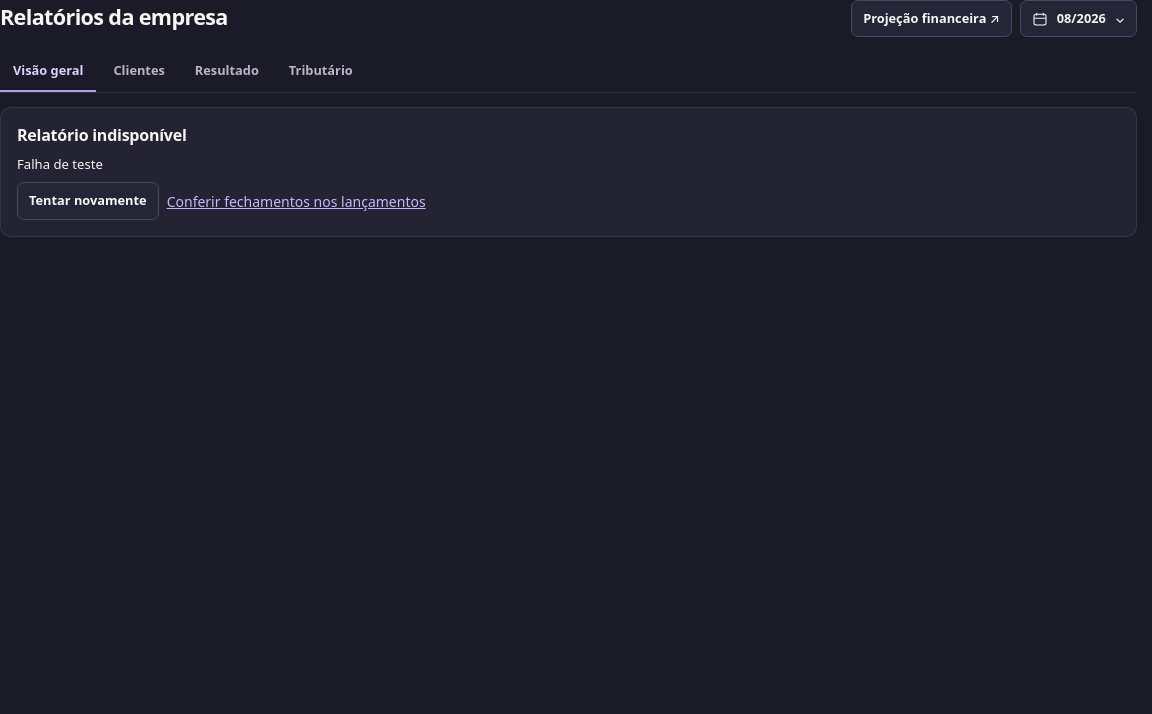
Scenario: falha não é tela vazia e permite repetir
Expected: the message is shown, [0, 107, 1137, 237]
Click the button "Tentar novamente".
click(88, 201)  # box [17, 182, 159, 220]
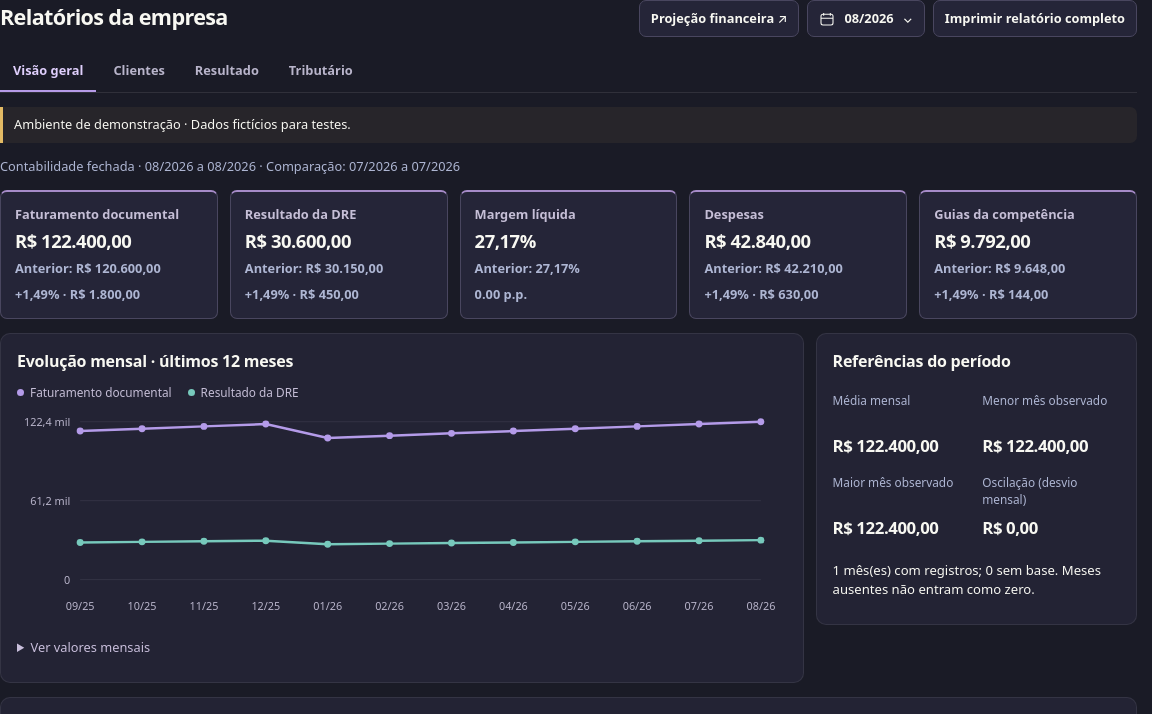
Expected: the text "Ambiente de demonstração · Dados fictícios para testes." is shown, [0, 107, 1137, 143]
